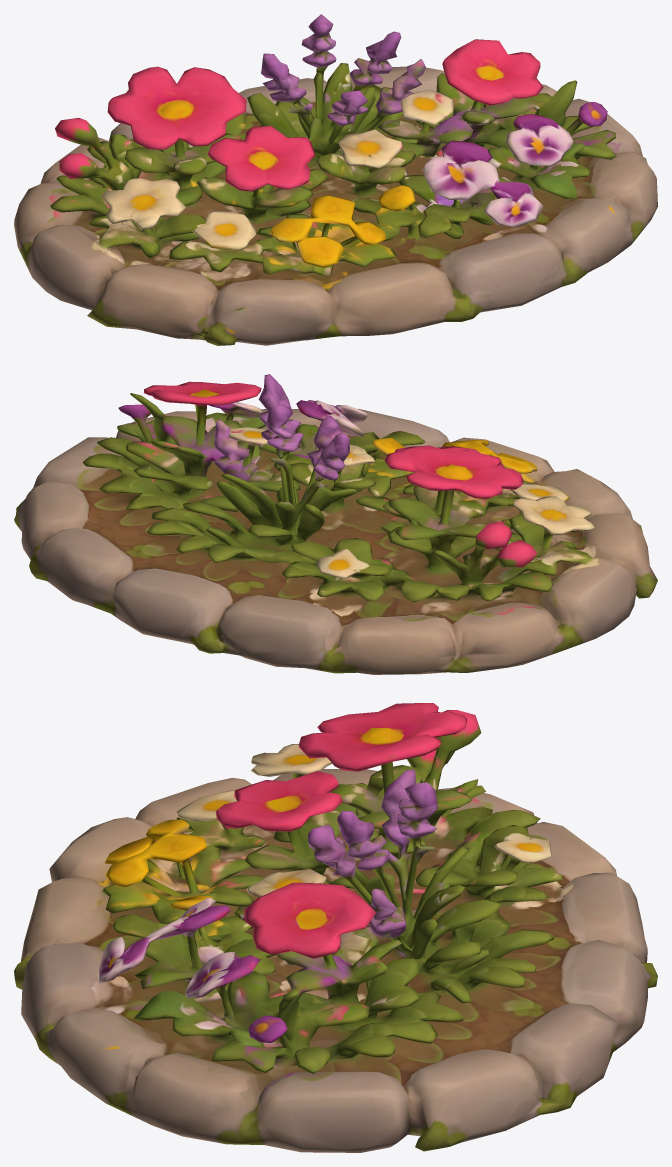
3 views of the same model, one above another, from view 1: azimuth 30°, elevation 25°; view 2: azimuth 150°, elevation 25°; view 3: azimuth 270°, elevation 25° (orthographic). The views are drawn at different scales.
Visible parts, largest first — view 1: flower-bed; view 2: flower-bed; view 3: flower-bed.
Part boxes in pixels (bbox=[...]): flower-bed: bbox=[14, 14, 657, 345]; flower-bed: bbox=[14, 374, 657, 674]; flower-bed: bbox=[14, 703, 657, 1152].
Size of the model in its own units: 2 by 0.601 by 1.6.
Materials: 1 (1 with a texture image).
